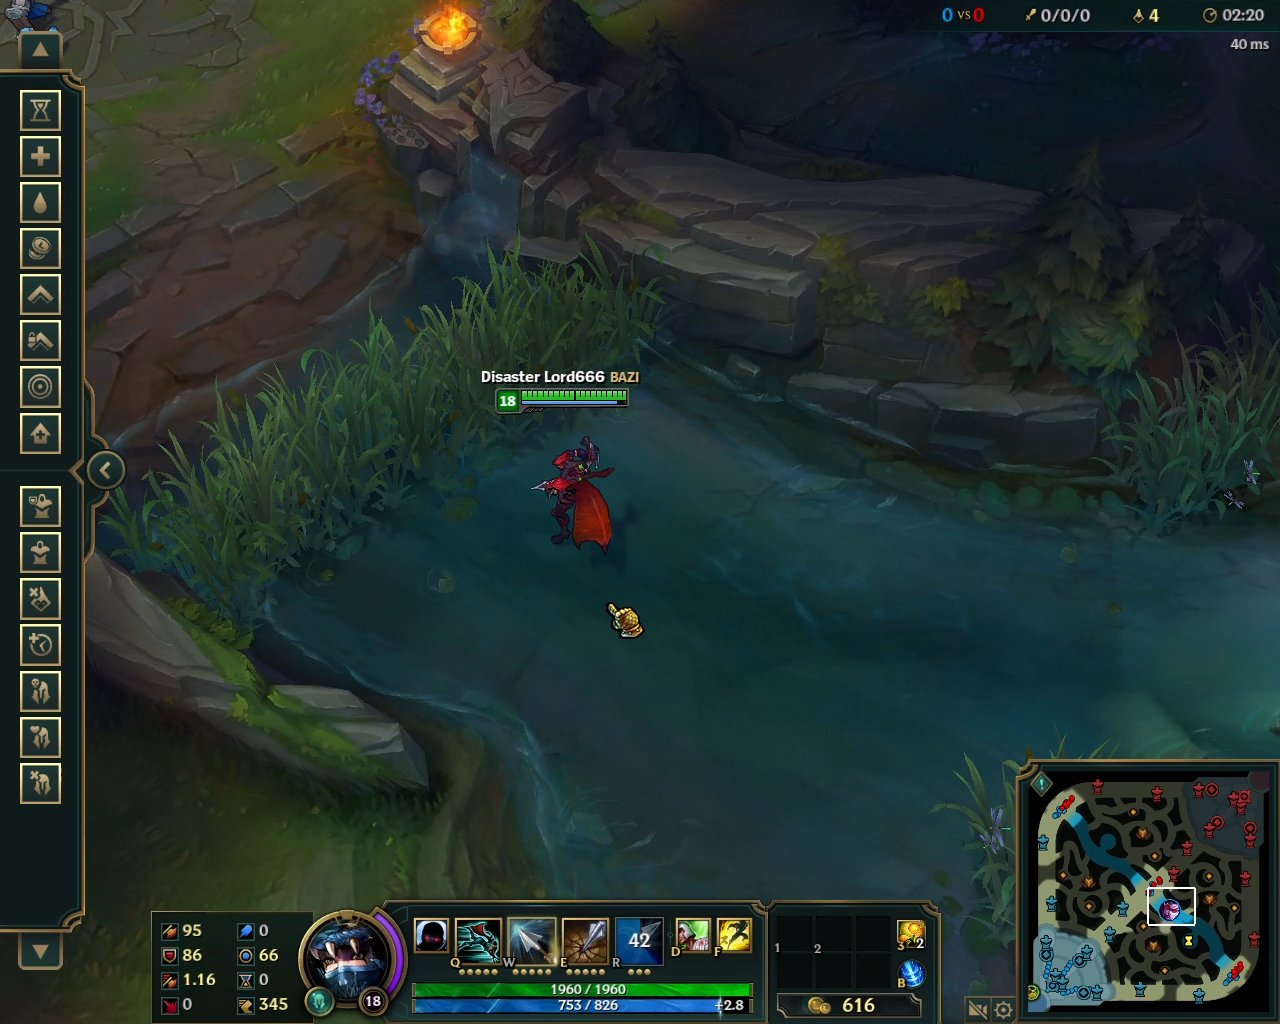Vayne: (523, 430, 630, 564)
